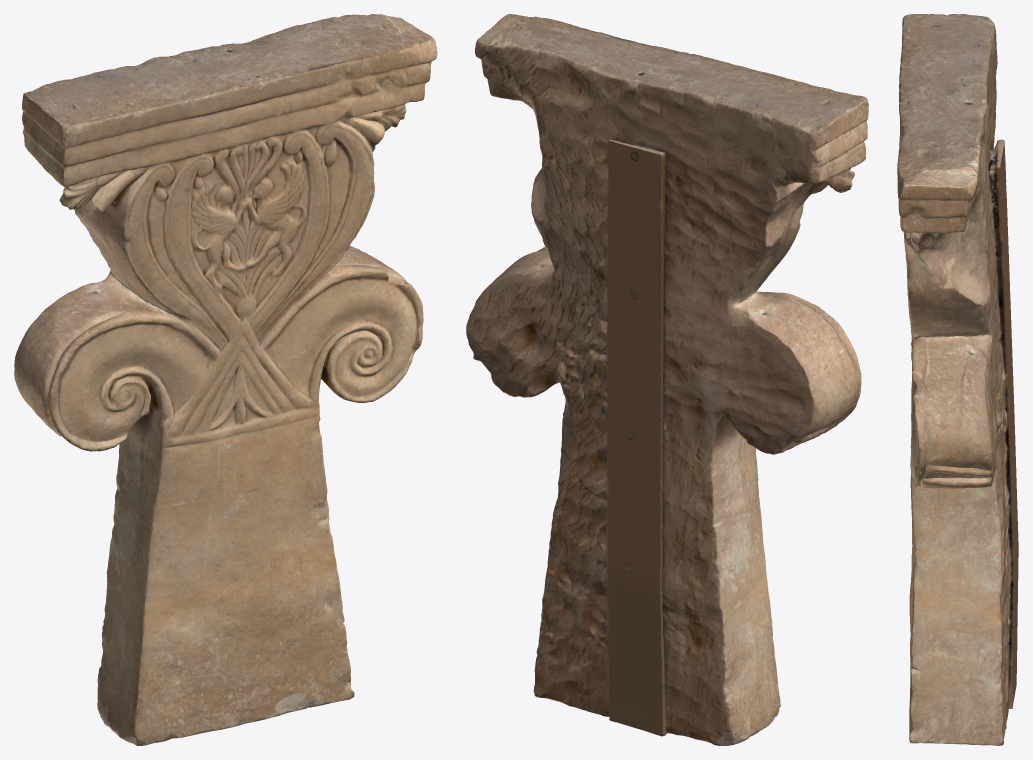
File: preview.glb
3 views of the same model, side by side, from view 1: azimuth 30°, elevation 25°; view 2: azimuth 150°, elevation 25°; view 3: azimuth 270°, elevation 25° (orthographic). The views are drawn at different scales.
Visible parts, largest first — view 1: ADVIMG_PG_74_51_2493_CypriotStele_NewUVTextured_n3d; view 2: ADVIMG_PG_74_51_2493_CypriotStele_NewUVTextured_n3d; view 3: ADVIMG_PG_74_51_2493_CypriotStele_NewUVTextured_n3d.
Part boxes in pixels (left/top/right/bottom): ADVIMG_PG_74_51_2493_CypriotStele_NewUVTextured_n3d: left=14, top=14, right=437, bottom=745; ADVIMG_PG_74_51_2493_CypriotStele_NewUVTextured_n3d: left=466, top=14, right=868, bottom=745; ADVIMG_PG_74_51_2493_CypriotStele_NewUVTextured_n3d: left=897, top=14, right=1018, bottom=745.
Size of the model in its own units: 0.8225 by 1.37 by 0.2486.
Materials: 1 (1 with a texture image).
